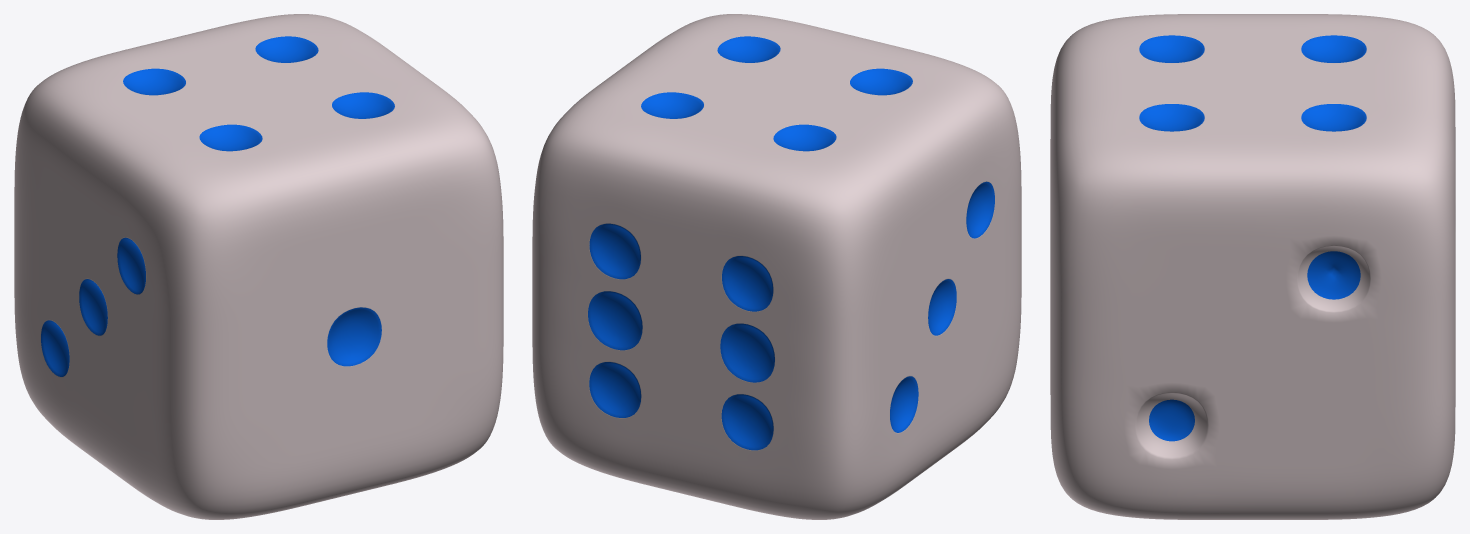
The model's file is playerdice.glb.
The picture shows the model from 3 angles, left to right: view 1: azimuth 30°, elevation 25°; view 2: azimuth 150°, elevation 25°; view 3: azimuth 270°, elevation 25°; orthographic projection. The views are drawn at different scales.
Parts seen in each view (by area): view 1: Cube; view 2: Cube; view 3: Cube.
Boxes of the visible parts, bbox=[...] form: Cube: bbox=[14, 14, 503, 519]; Cube: bbox=[532, 14, 1021, 519]; Cube: bbox=[1050, 14, 1455, 519].
Bounding box in the file's own units: 2 × 2 × 2.
